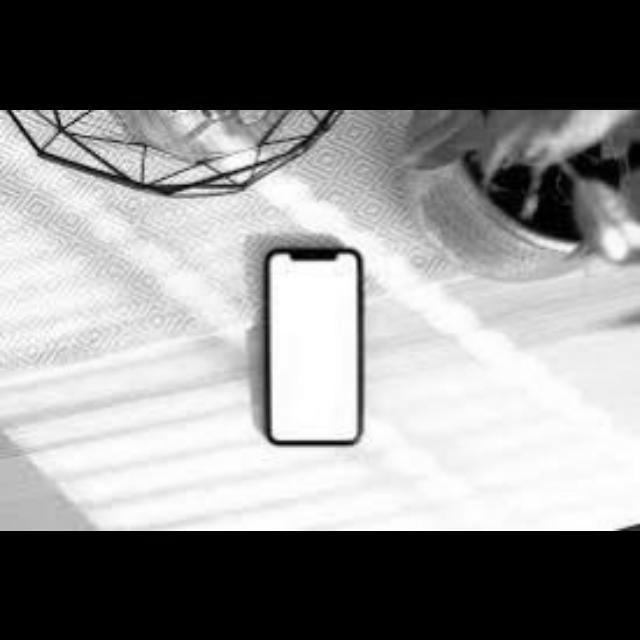fake: (265, 244, 362, 450)
